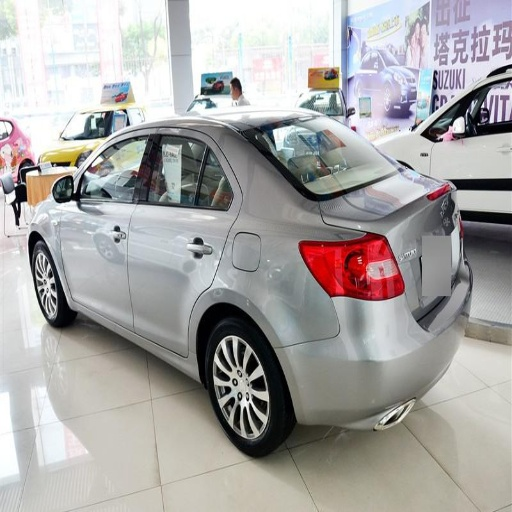back_bumper: (266, 293, 465, 429)
back_glass: (239, 117, 392, 196)
back_left_door: (129, 125, 242, 354)
